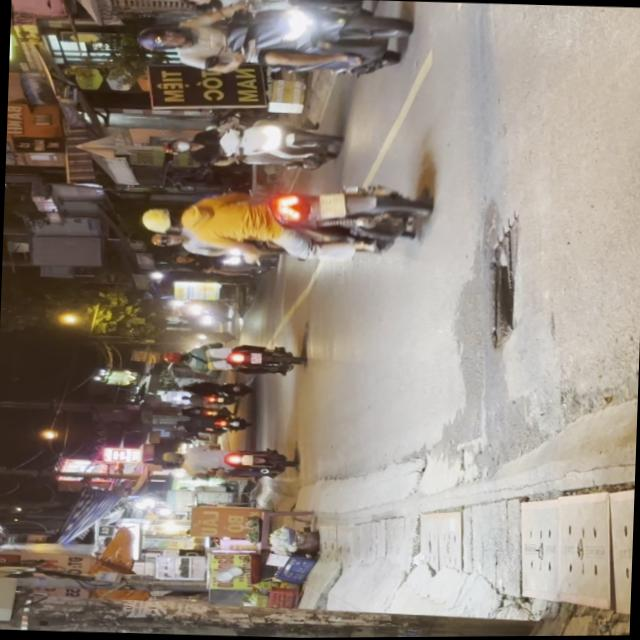helmet: (134, 22, 184, 50), (138, 203, 184, 232), (160, 136, 192, 152)
licenseplate: (136, 175, 428, 264), (131, 0, 414, 81), (157, 115, 343, 173)
nohelmet: (316, 191, 346, 218)
